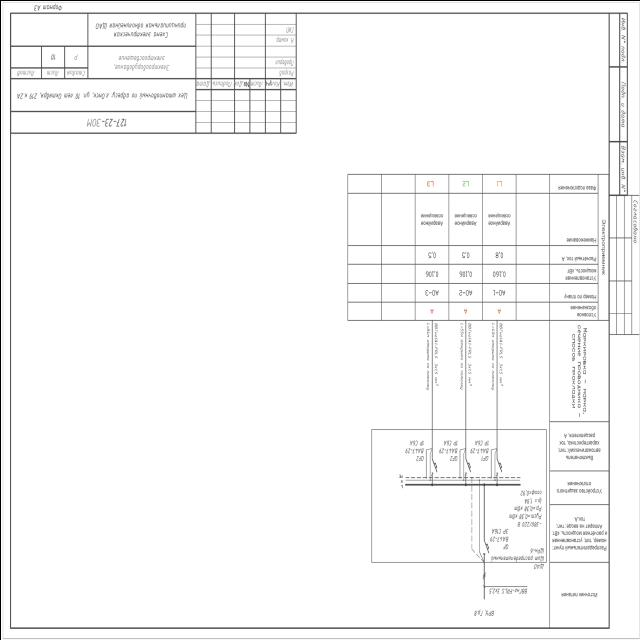-: (489, 547, 543, 569), (488, 526, 508, 542), (404, 438, 424, 454), (468, 438, 488, 453), (438, 438, 458, 453)
QF: (481, 538, 489, 556), (463, 457, 471, 473), (430, 458, 438, 473), (494, 458, 502, 473)
